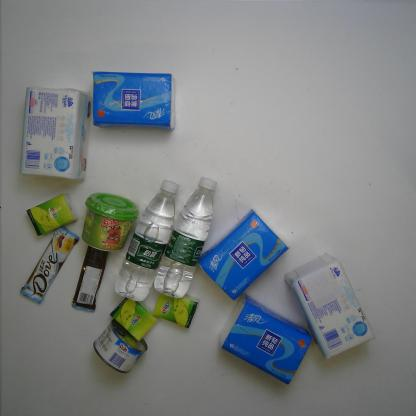Canned Food: (92, 318, 149, 374)
Chocolate: (19, 226, 80, 305), (71, 244, 109, 314)
Drink: (113, 178, 182, 303), (153, 176, 218, 300)
Instant Drink: (81, 192, 141, 252)
Tissue: (283, 252, 377, 362), (218, 292, 312, 386), (197, 208, 290, 301), (19, 87, 91, 181), (90, 70, 178, 132), (24, 192, 78, 237), (108, 297, 158, 344), (153, 292, 200, 329)
